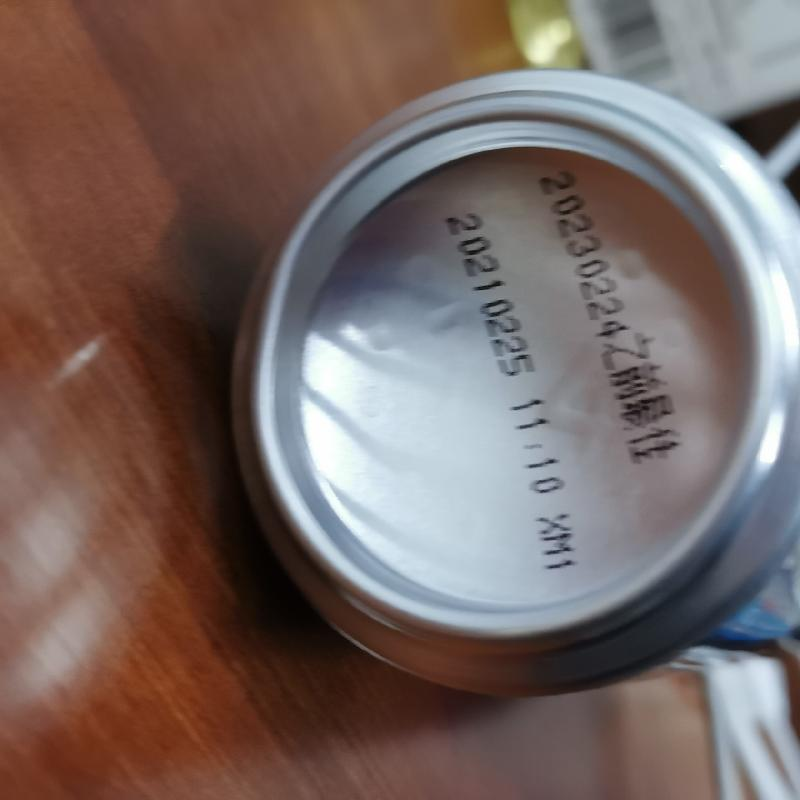cans: (229, 71, 799, 683)
